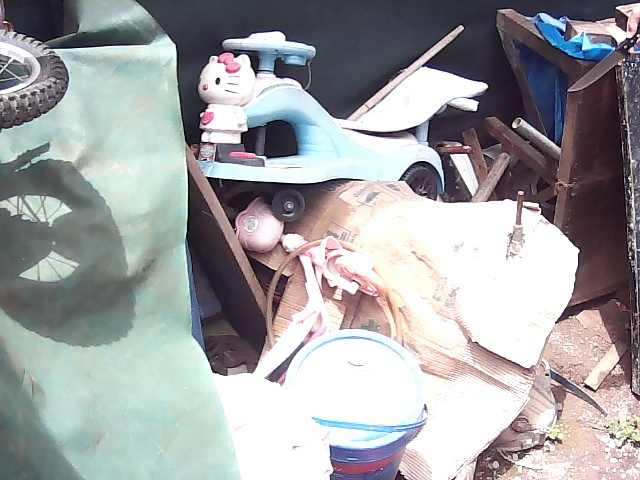cuchillo: (562, 29, 638, 97)
